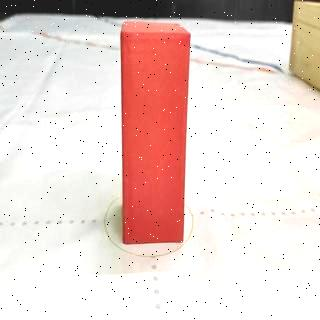redbox: (120, 21, 190, 246)
